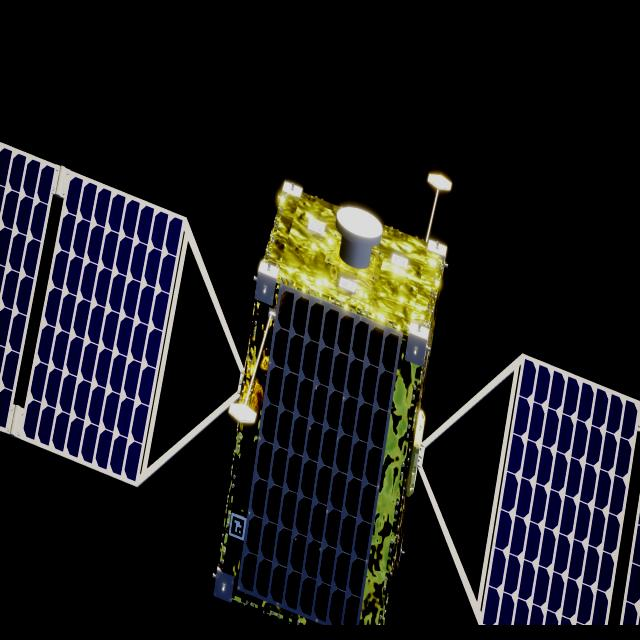satellite: (0, 143, 640, 629)
